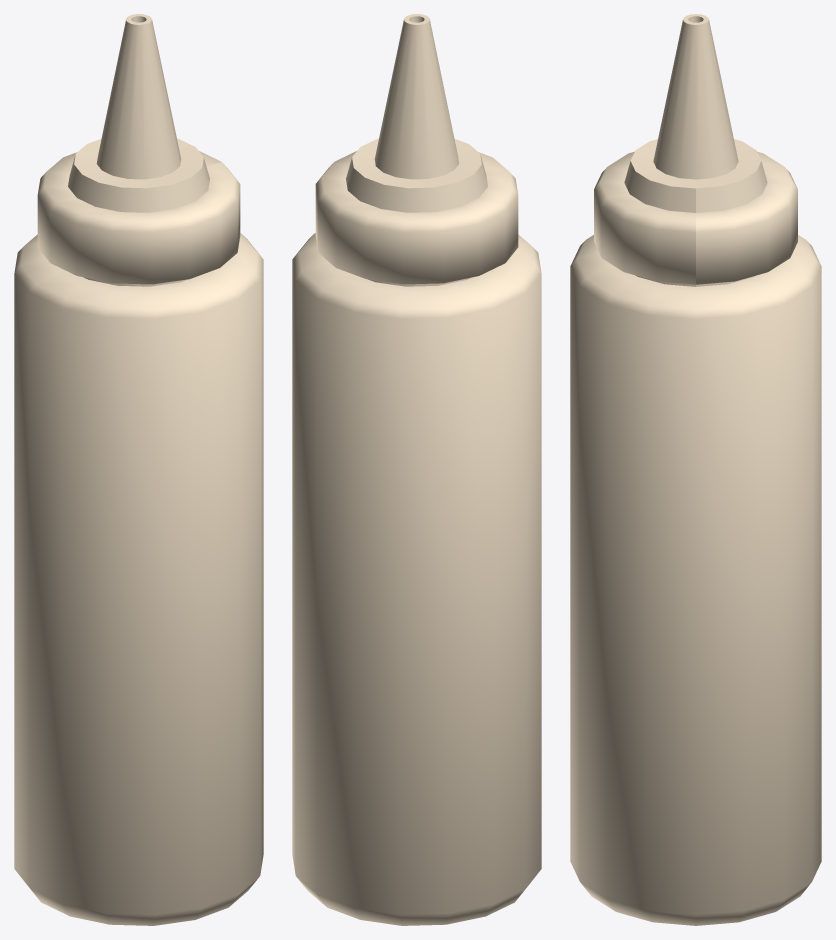
Rendered from BottleMayo.fbx.
The picture shows the model from 3 angles, left to right: view 1: azimuth 30°, elevation 25°; view 2: azimuth 150°, elevation 25°; view 3: azimuth 270°, elevation 25°; orthographic projection.
Parts seen in each view (by area): view 1: Bottle Mayo; view 2: Bottle Mayo; view 3: Bottle Mayo.
Boxes of the visible parts, left/top/right/bottom form: Bottle Mayo: left=14, top=14, right=263, bottom=925; Bottle Mayo: left=292, top=14, right=541, bottom=925; Bottle Mayo: left=570, top=14, right=821, bottom=925.
Size of the model in its own units: 85.11 by 325 by 85.11.
